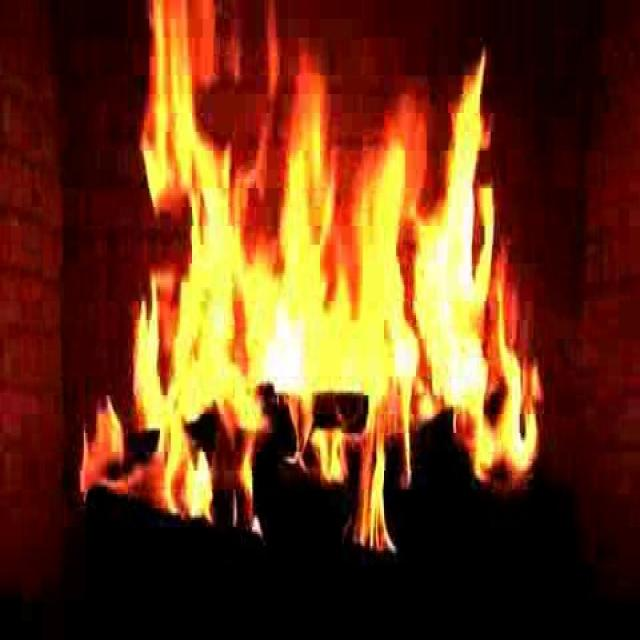fire: (118, 14, 528, 532)
